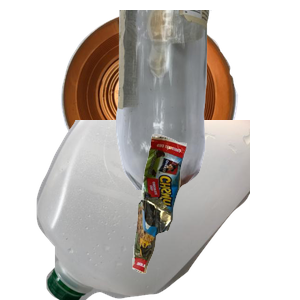glass: (113, 10, 300, 190)
metal: (58, 10, 289, 186)
plastic: (34, 120, 274, 300)
trash: (130, 131, 300, 300)
